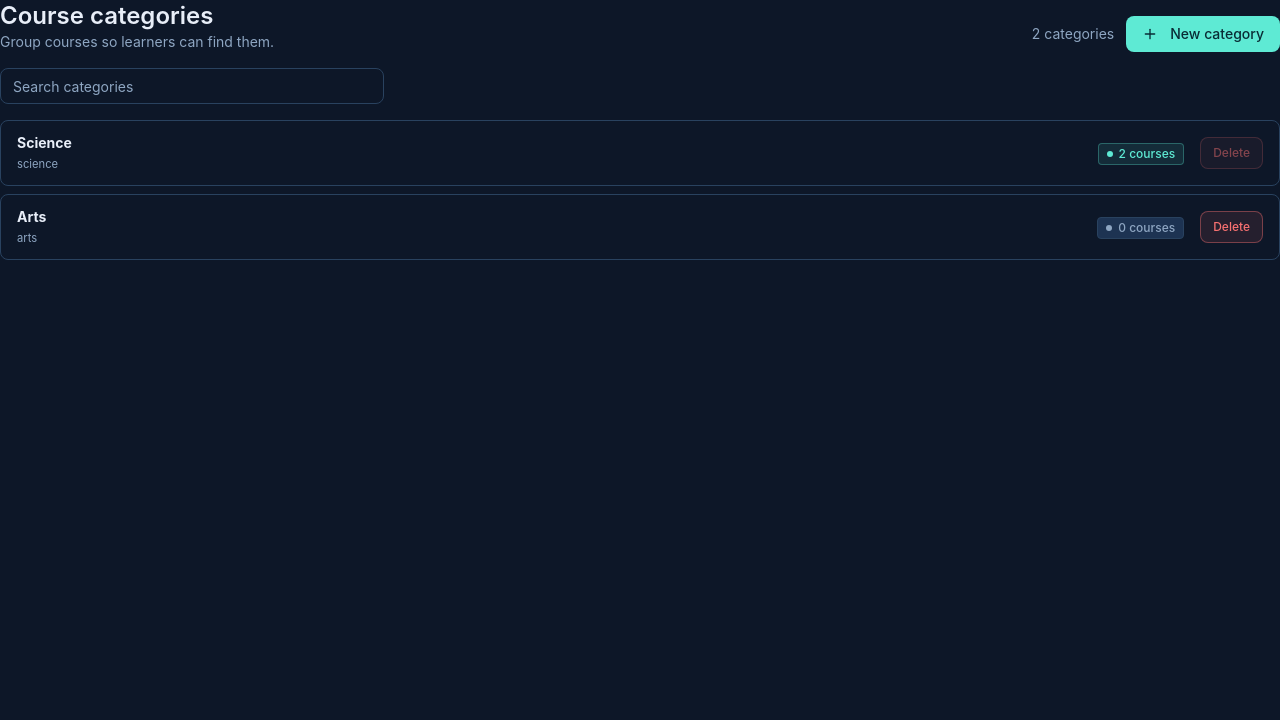
Test: CategoriesPage › creates a category from a panel, checking the name first
Click the button "New category" at (1203, 34), box [1126,16,1279,52]
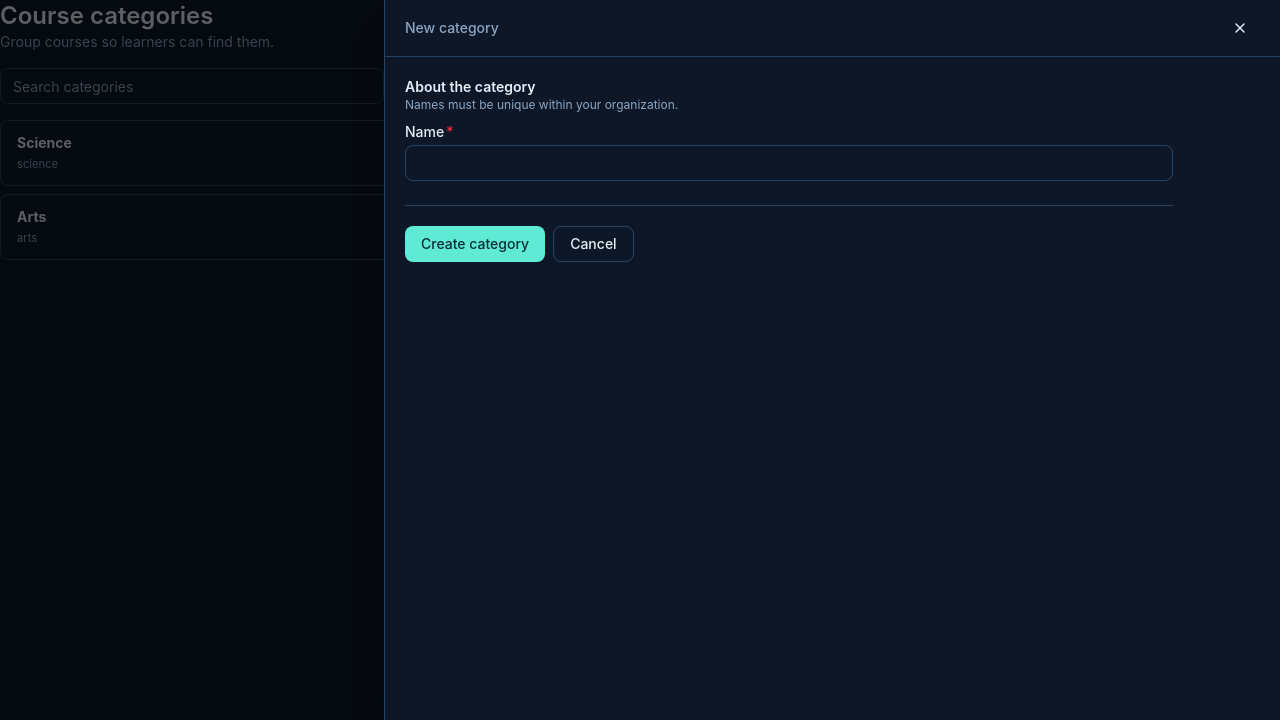
Result: the dialog "New category" is shown
Type "a" into the field labelled "Name" at (789, 163), box [405,145,1173,181]
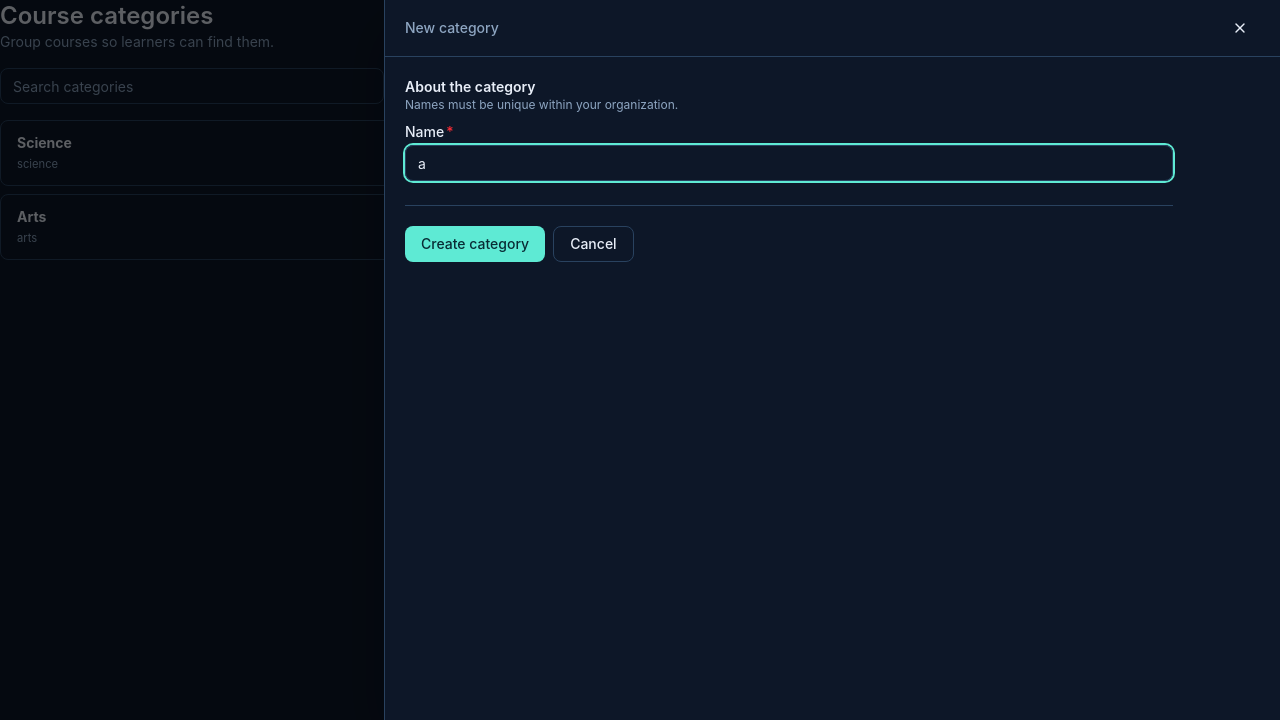
Click the button "Create category" at (475, 244), box [405,226,545,262]
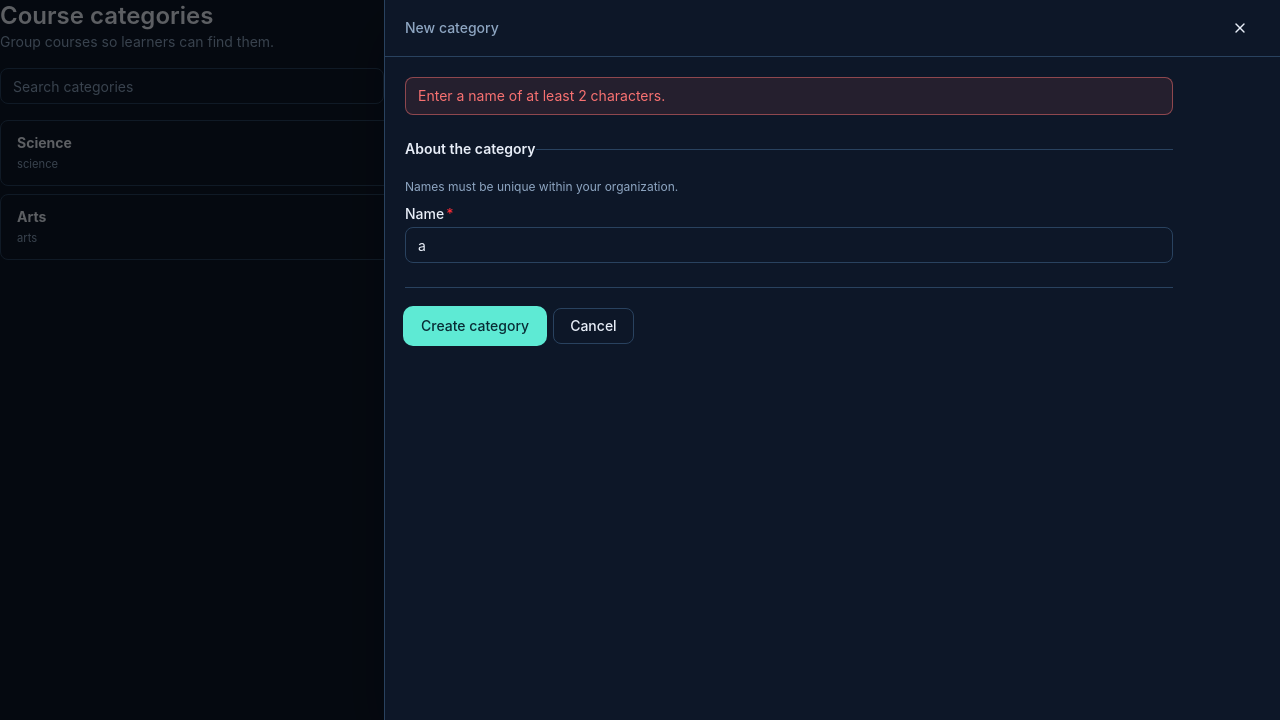
Result: the message shows "at least 2 characters" at [418,87,665,104]
Replace the text in the field labelled "Name" with "Languages" at (789, 245), box [405,227,1173,263]
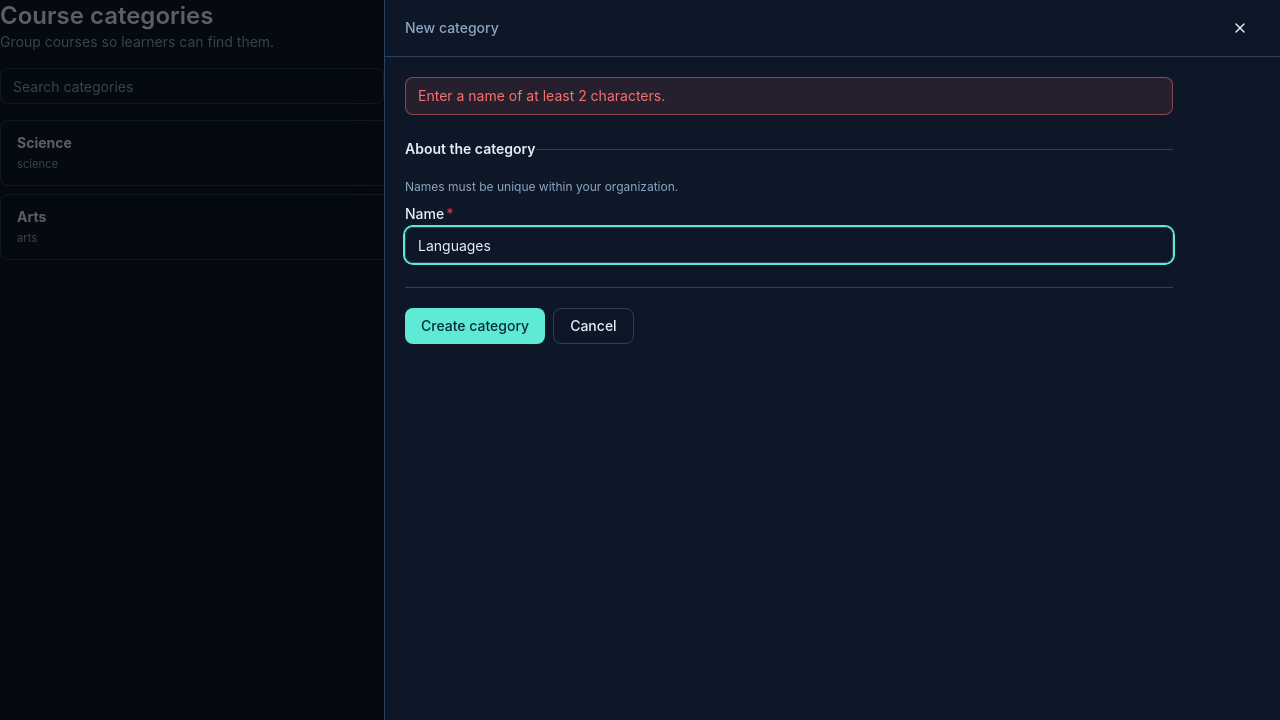
Click the button "Create category" at (475, 326), box [405,308,545,344]
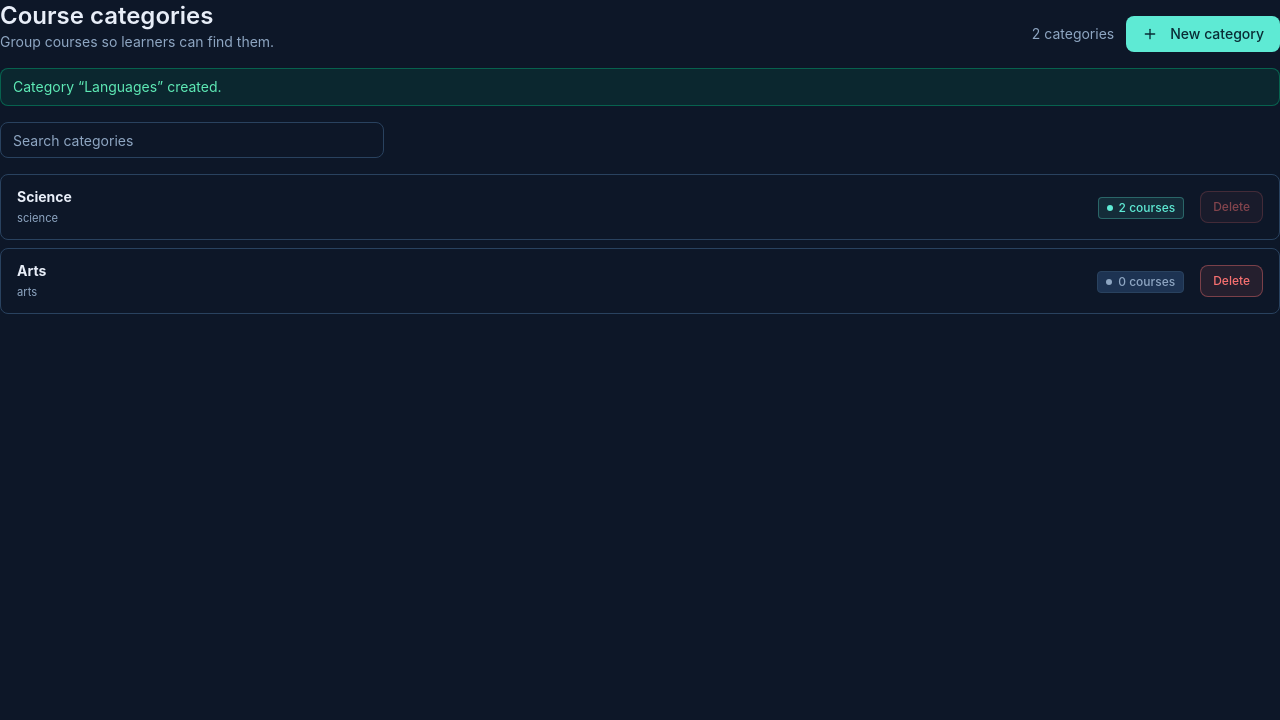
Result: the dialog is gone
Result: the text "Category “Languages” created." is shown at [0,68,1279,106]
